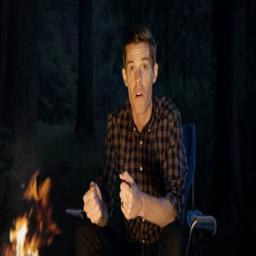fire: (5, 170, 63, 256)
